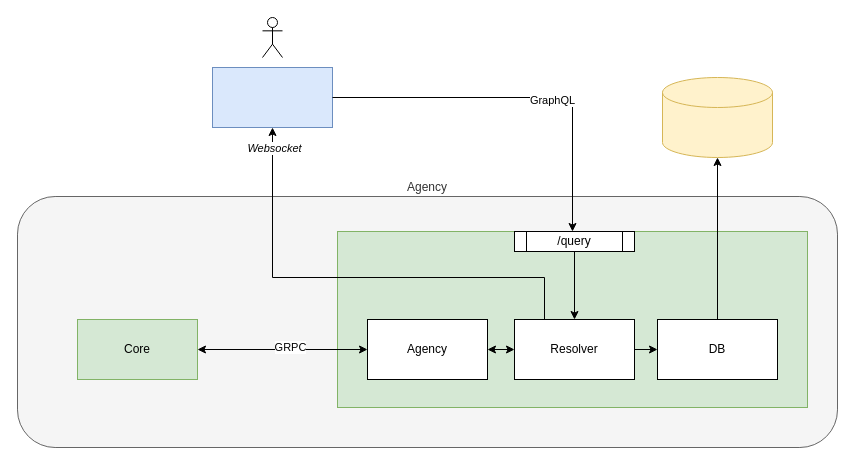
Some shapes in this 855 by 465 pixel diagram are drawn without their labels. The box of each missing label's shape, as (x1, y1, x2, y2) in pixels:
Postgres: (662, 76, 772, 158)
PWA Wallet: (212, 66, 332, 128)
Vault: (336, 230, 808, 408)
